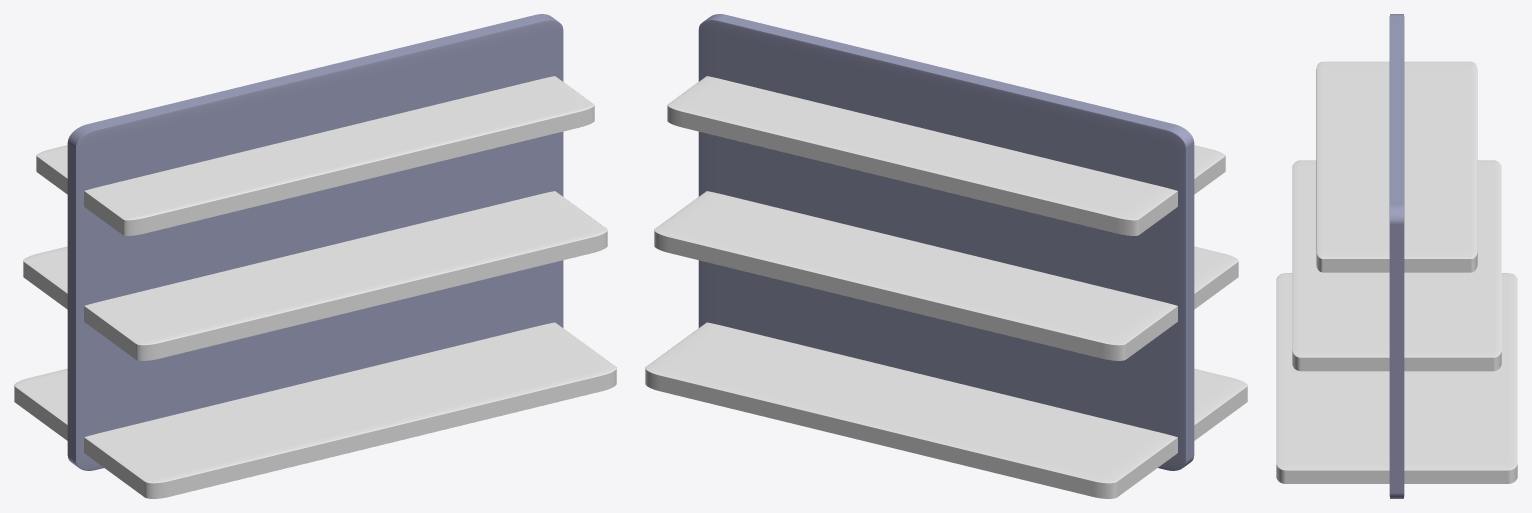
The model's file is Stand.glb.
The picture shows the model from 3 angles, left to right: view 1: azimuth 30°, elevation 25°; view 2: azimuth 150°, elevation 25°; view 3: azimuth 270°, elevation 25°; orthographic projection. The views are drawn at different scales.
Visible parts, largest first — view 1: Box, Box 1, Box 2, Box 3; view 2: Box, Box 1, Box 2, Box 3; view 3: Box 3, Box 1, Box 2, Box.
Boxes of the visible parts, x1,y1,x2,y2 form: Box: [67, 14, 563, 470]; Box 1: [14, 322, 616, 498]; Box 2: [23, 191, 607, 360]; Box 3: [36, 76, 594, 235]; Box: [698, 14, 1194, 470]; Box 1: [645, 322, 1247, 498]; Box 2: [654, 191, 1238, 360]; Box 3: [667, 76, 1225, 235]; Box 3: [1316, 61, 1477, 272]; Box 1: [1276, 273, 1517, 483]; Box 2: [1292, 160, 1501, 371]; Box: [1389, 14, 1404, 498].
Size of the model in its own units: 3 by 2 by 1.5.
